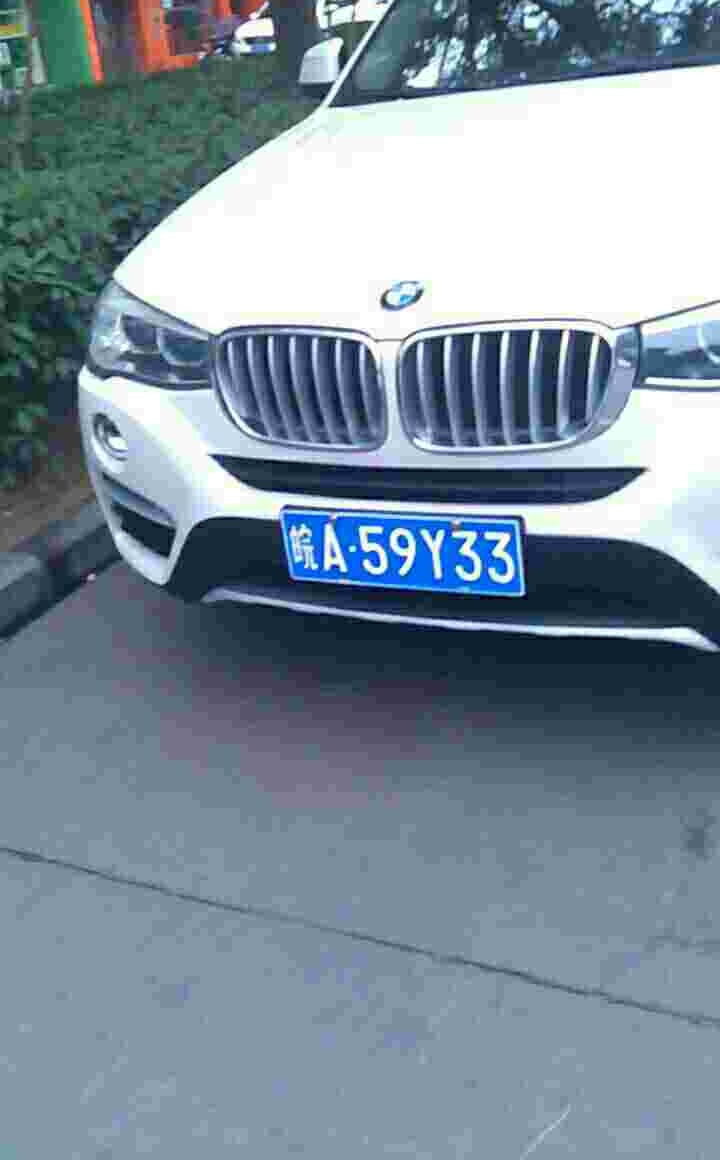plate: (276, 504, 531, 600)
